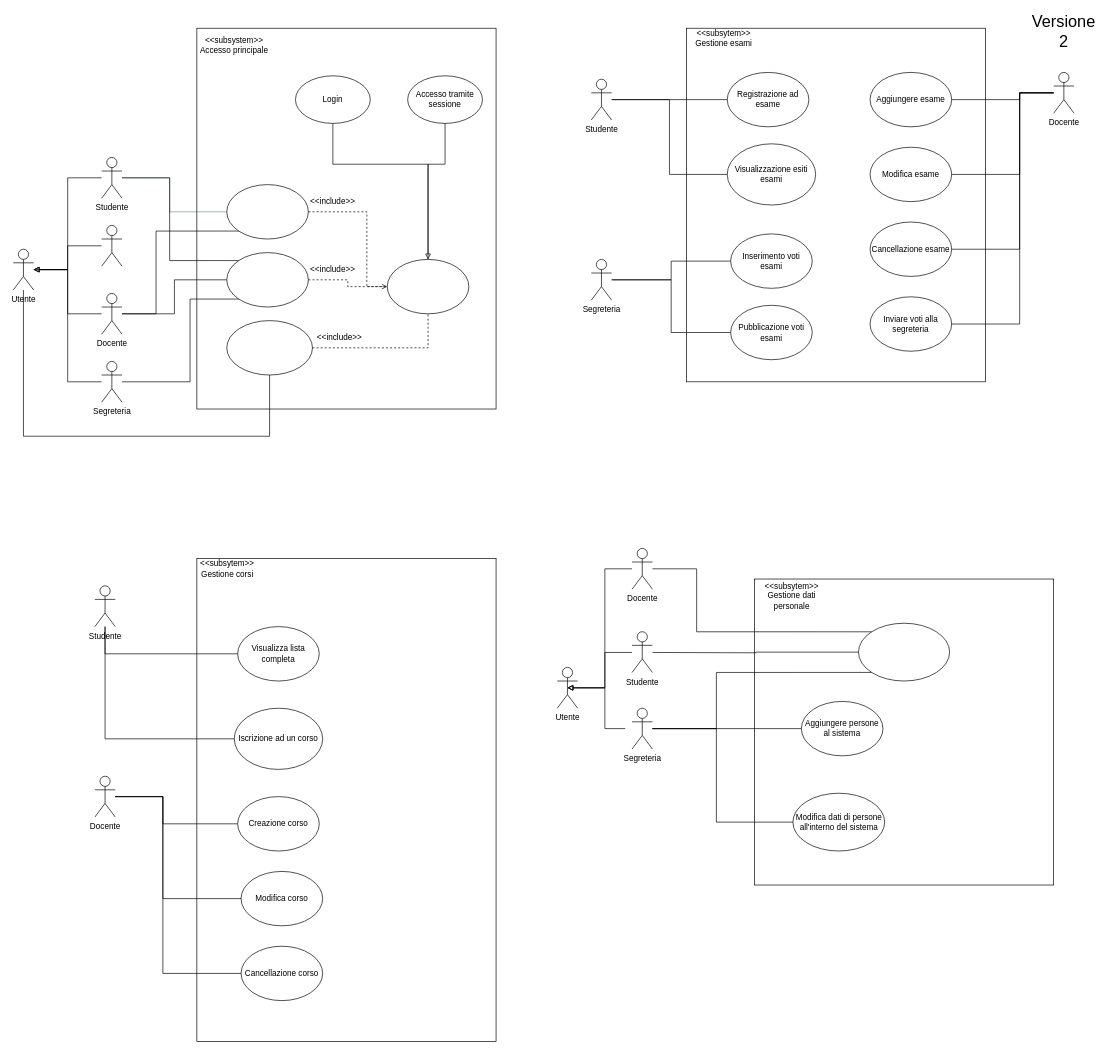
Some shapes in this 1107 by 1053 pixel diagram are drawn without their labels. Here are the shapes that lost their labels. From the top down, the box of each, then its label:
(226, 184, 308, 239): Gestione Corsi
(101, 225, 122, 266): Amministratore
(226, 252, 308, 307): Gestione Esami
(387, 259, 469, 314): Autenticazione
(226, 320, 312, 375): Gestione dati personale
(858, 623, 950, 681): Visualizzare Informazioni personali
